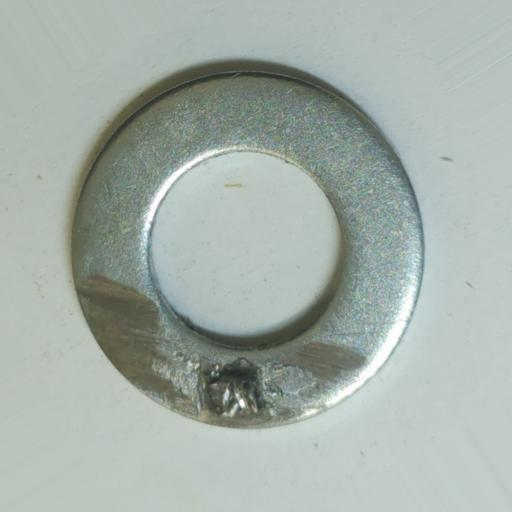excess_material: (199, 356, 270, 418)
